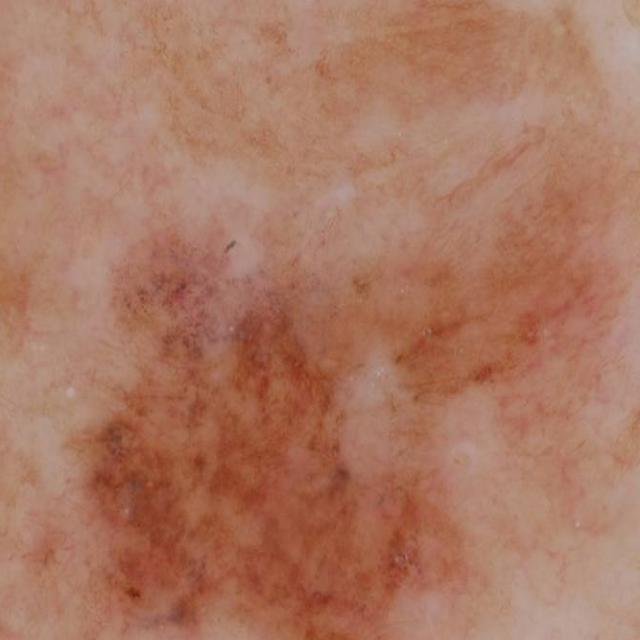Melanoma: (32, 208, 488, 640)
